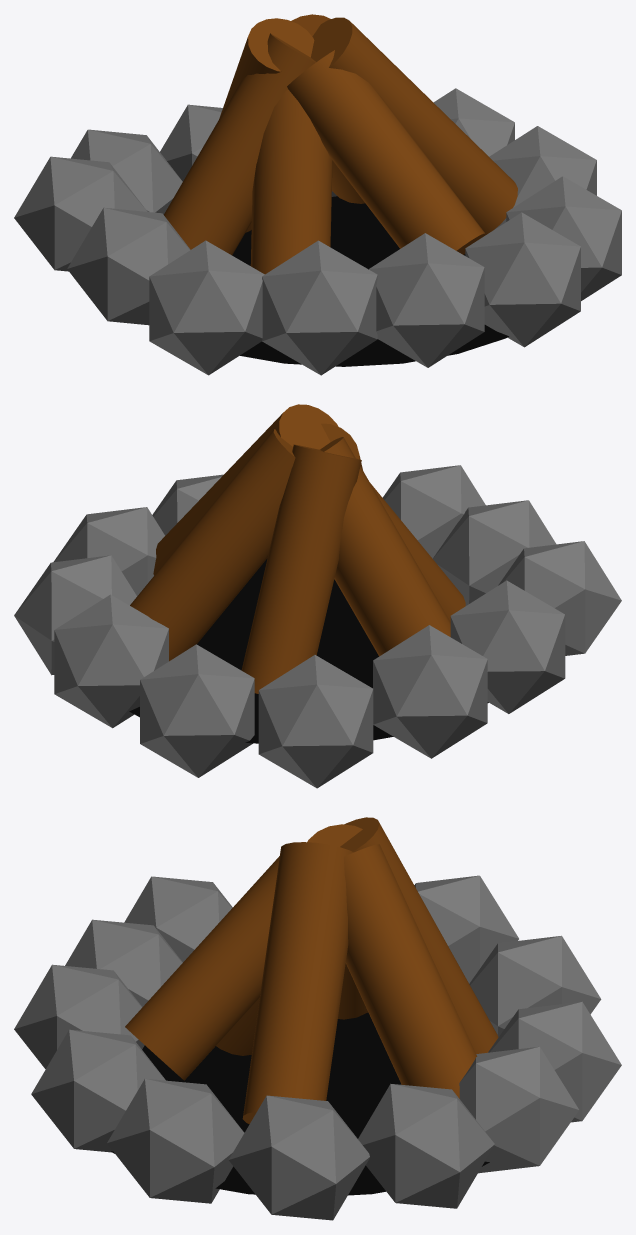
File: _ampates.fbx
3 renders of one model, top to bottom at view 1: azimuth 30°, elevation 25°; view 2: azimuth 150°, elevation 25°; view 3: azimuth 270°, elevation 25°, orthographic. The views are drawn at different scales.
Visible parts, largest first — view 1: pCylinder1, pCylinder3, pPlatonic7, pPlatonic6, pCylinder5, pPlatonic8, pCylinder6, pPlatonic9, pPlatonic1, pPlatonic2, pPlatonic10, taban (+6 smaller); view 2: pCylinder2, pCylinder4, pPlatonic3, pPlatonic2, pPlatonic4, pCylinder3, pPlatonic5, pPlatonic1, pPlatonic6, pPlatonic7, taban, pPlatonic12 (+5 smaller); view 3: pCylinder5, pCylinder4, pCylinder1, pPlatonic11, pPlatonic12, pPlatonic10, pPlatonic5, taban, pPlatonic9, pPlatonic3, pPlatonic8, pPlatonic4 (+6 smaller).
Part boxes in pixels (x1=…): pCylinder1: x1=287, y1=50, x2=485, y2=254; pCylinder3: x1=164, y1=33, x2=316, y2=255; pPlatonic7: x1=262, y1=240, x2=377, y2=375; pPlatonic6: x1=149, y1=240, x2=264, y2=375; pCylinder5: x1=311, y1=17, x2=517, y2=235; pPlatonic8: x1=369, y1=233, x2=484, y2=367; pCylinder6: x1=250, y1=89, x2=332, y2=274; pPlatonic9: x1=465, y1=212, x2=580, y2=347; pPlatonic1: x1=67, y1=207, x2=190, y2=325; pPlatonic2: x1=14, y1=156, x2=147, y2=271; pPlatonic10: x1=506, y1=176, x2=621, y2=300; taban: x1=232, y1=196, x2=508, y2=366; pCylinder2: x1=241, y1=444, x2=361, y2=693; pCylinder4: x1=130, y1=429, x2=295, y2=661; pPlatonic3: x1=258, y1=655, x2=373, y2=788; pPlatonic2: x1=373, y1=625, x2=487, y2=758; pPlatonic4: x1=140, y1=644, x2=254, y2=777; pCylinder3: x1=320, y1=437, x2=450, y2=656; pPlatonic5: x1=54, y1=594, x2=168, y2=728; pPlatonic1: x1=450, y1=580, x2=565, y2=713; pPlatonic6: x1=498, y1=541, x2=621, y2=655; pPlatonic7: x1=433, y1=500, x2=555, y2=605; taban: x1=129, y1=558, x2=488, y2=743; pPlatonic12: x1=14, y1=555, x2=136, y2=675; pCylinder5: x1=242, y1=842, x2=353, y2=1124; pCylinder4: x1=344, y1=844, x2=477, y2=1098; pCylinder1: x1=125, y1=856, x2=279, y2=1080; pPlatonic11: x1=229, y1=1095, x2=369, y2=1220; pPlatonic12: x1=358, y1=1083, x2=494, y2=1208; pPlatonic10: x1=107, y1=1078, x2=244, y2=1203; pPlatonic5: x1=459, y1=1046, x2=579, y2=1173; taban: x1=111, y1=1012, x2=489, y2=1195; pPlatonic9: x1=31, y1=1029, x2=165, y2=1152; pPlatonic3: x1=469, y1=935, x2=601, y2=1036; pPlatonic8: x1=14, y1=964, x2=144, y2=1069; pPlatonic4: x1=488, y1=1001, x2=621, y2=1122.
Bounding box in the file's own units: 8.53 × 4.43 × 8.5.
